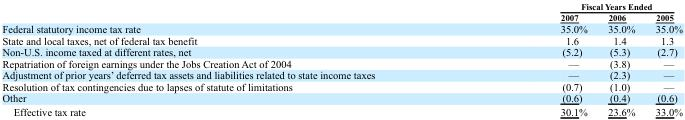table: (1, 1, 682, 116)
table column: (1, 1, 467, 116), (467, 1, 597, 116), (597, 1, 644, 116), (644, 1, 682, 116)
table column header: (1, 1, 682, 22)
table row: (1, 22, 682, 34), (1, 45, 682, 57), (1, 68, 682, 80), (1, 80, 682, 92), (1, 92, 682, 104), (1, 104, 682, 116), (1, 11, 682, 22), (1, 34, 682, 45), (1, 57, 682, 68), (1, 1, 682, 11)
table spanning cell: (467, 1, 682, 11)
